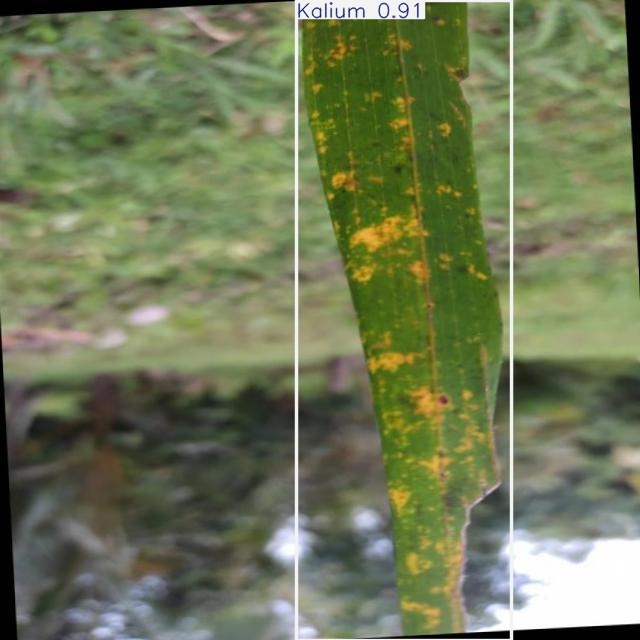Kalium: (296, 1, 512, 640)
